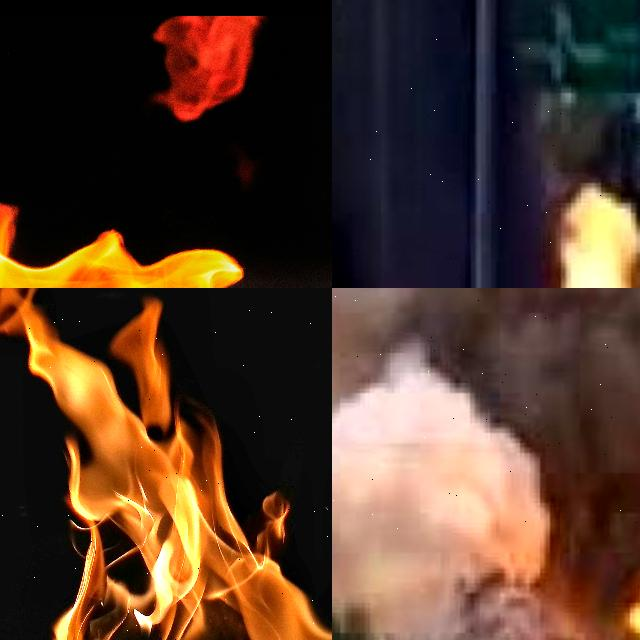fire: (0, 288, 332, 640), (551, 183, 640, 288)
smoke: (332, 288, 640, 530), (332, 0, 516, 288)
